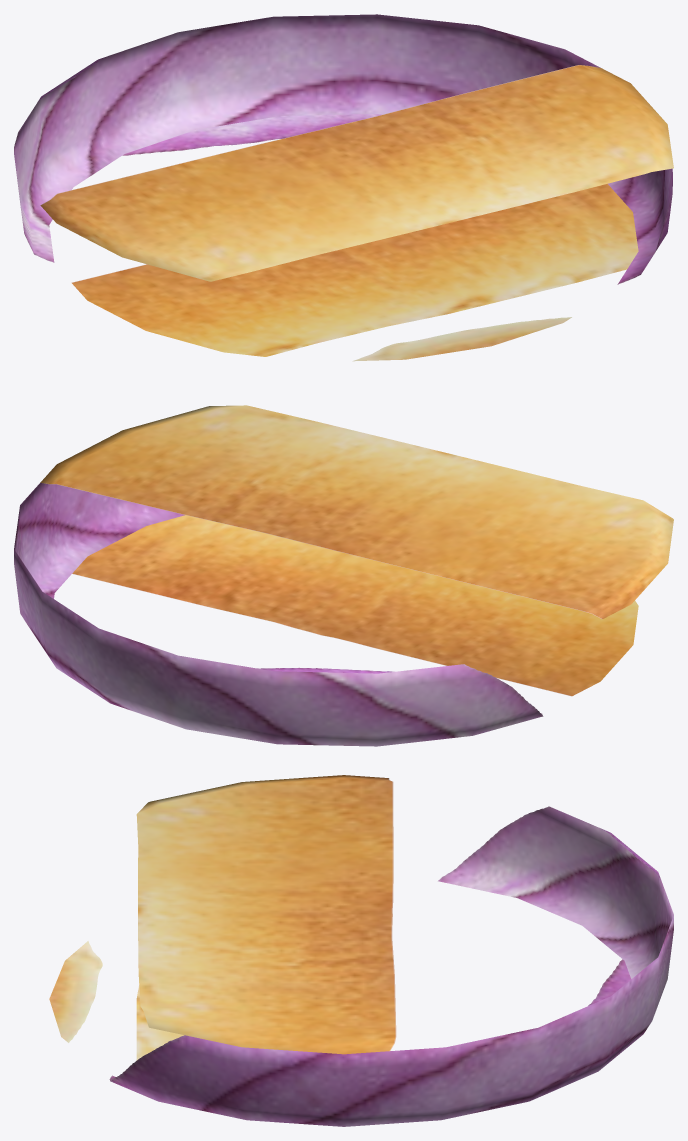
File: burger_bun_03.FBX
3 renders of one model, top to bottom at view 1: azimuth 30°, elevation 25°; view 2: azimuth 150°, elevation 25°; view 3: azimuth 270°, elevation 25°, orthographic.
Visible parts, largest first — view 1: burger_bun_03_LOD00; view 2: burger_bun_03_LOD00; view 3: burger_bun_03_LOD00.
Boxes of the visible parts, x1=… form: burger_bun_03_LOD00: x1=14, y1=14, x2=673, y2=361; burger_bun_03_LOD00: x1=14, y1=405, x2=673, y2=746; burger_bun_03_LOD00: x1=49, y1=775, x2=673, y2=1126.
Size of what is drawn, in the model's own units: 5.47 by 0.8197 by 5.46.
